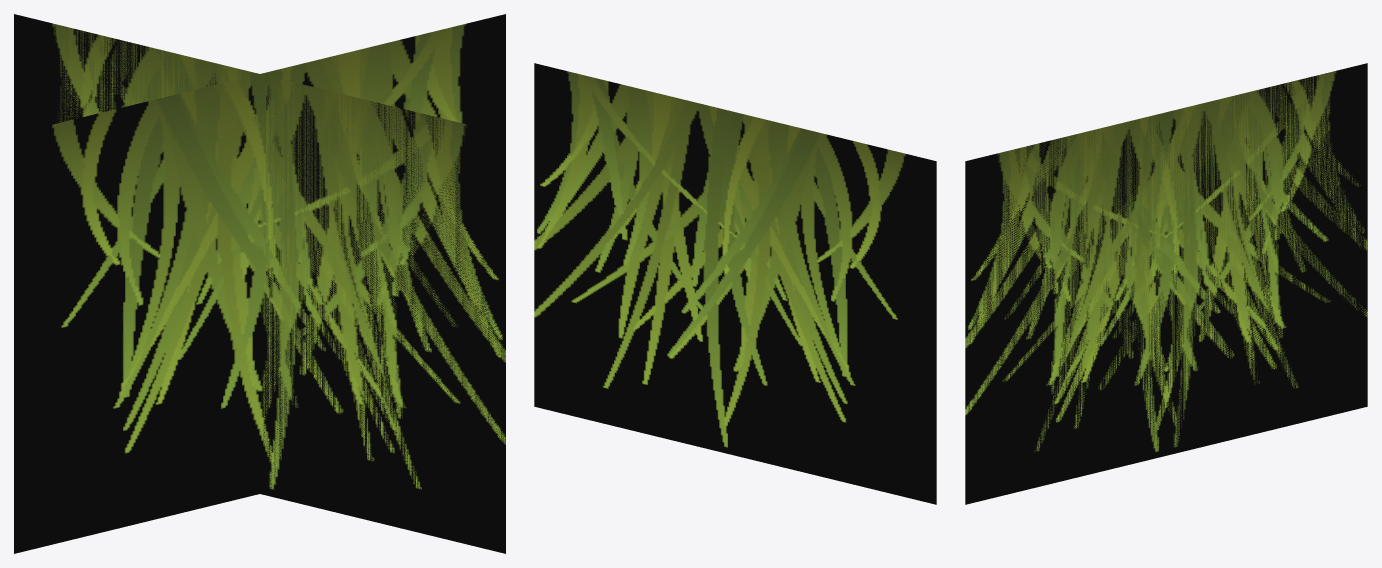
Rendered from grass.glb.
The picture shows the model from 3 angles, left to right: view 1: azimuth 30°, elevation 25°; view 2: azimuth 150°, elevation 25°; view 3: azimuth 270°, elevation 25°; orthographic projection. The views are drawn at different scales.
Bounding box in the file's own units: 0.76 × 0.62 × 0.6582.
Materials: 1 (1 with a texture image).
